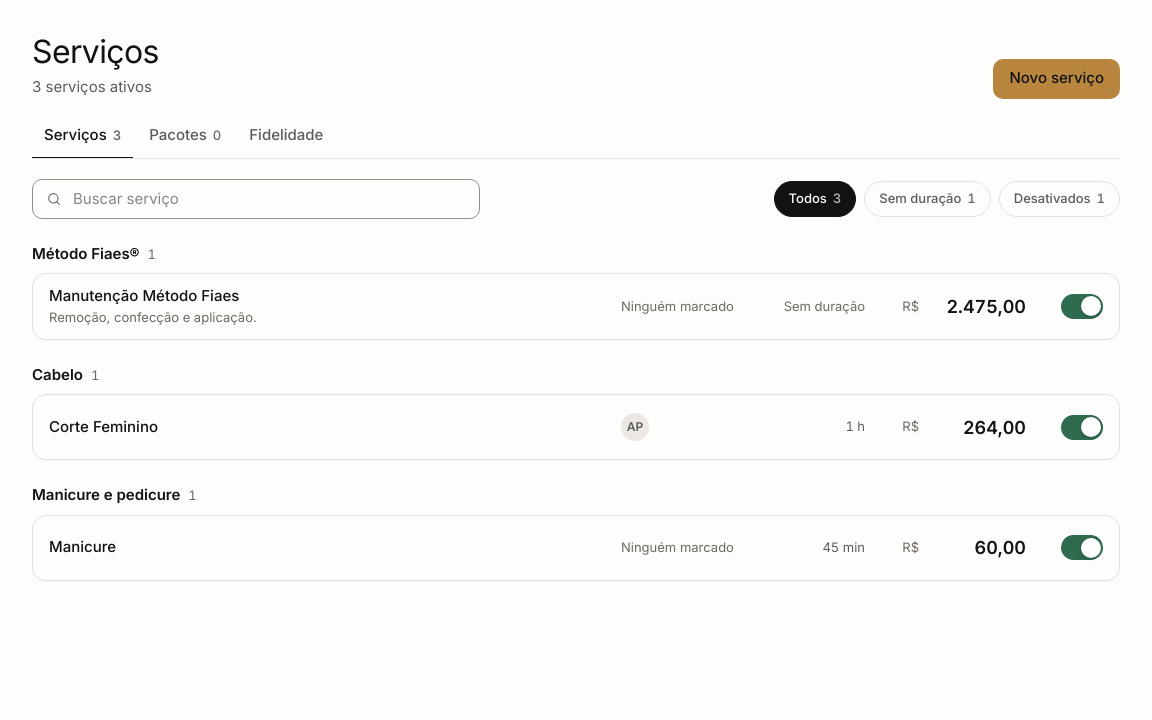
Test: busca sem acento e filtros (sem duração, desativados)
The image size is (1152, 720).
In the search field labelled "Buscar serviço": (256, 198) [32, 178, 480, 218], type "metodo"
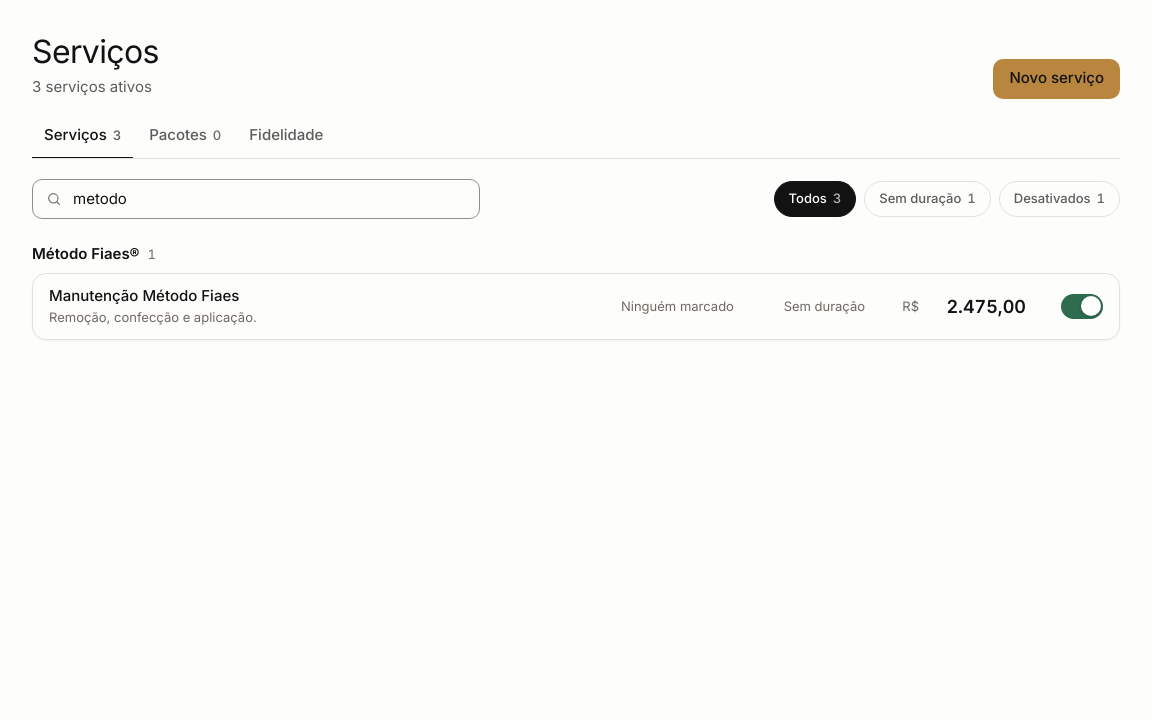
Expected: the headings read "Método Fiaes®1", in this order, [32, 244, 156, 262]
Clear the search field named "Buscar serviço": (256, 198) [32, 178, 480, 218]
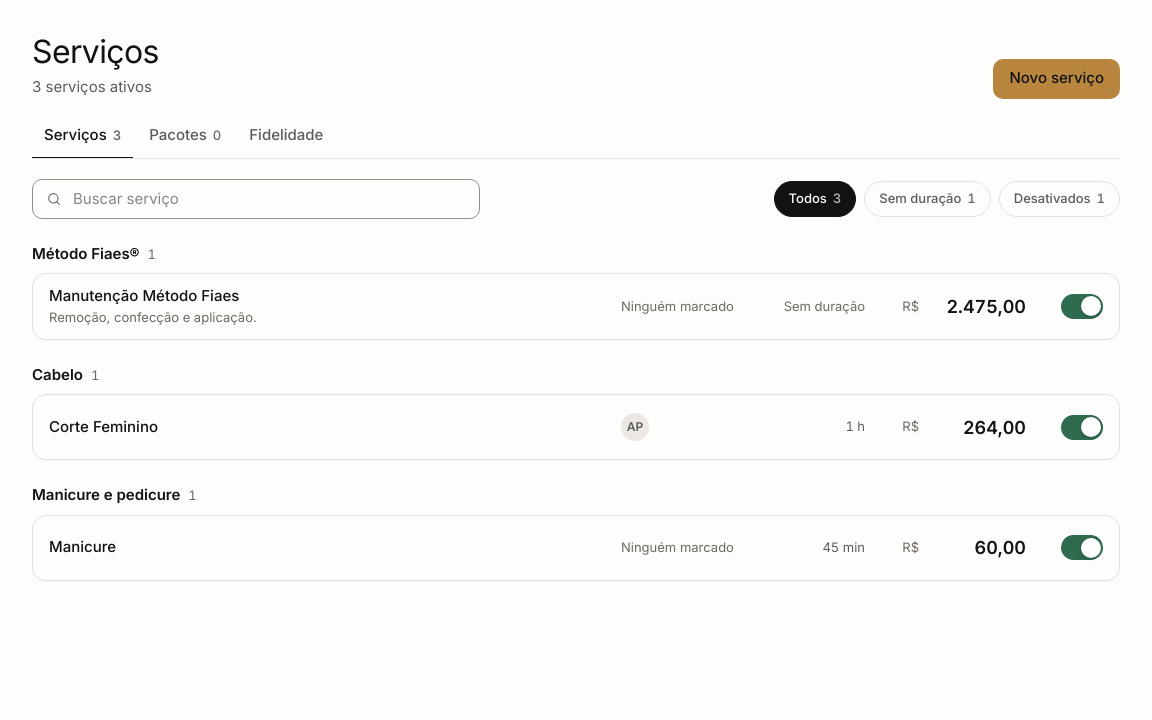
Click the button "Sem duração 1": (928, 198) [864, 180, 991, 216]
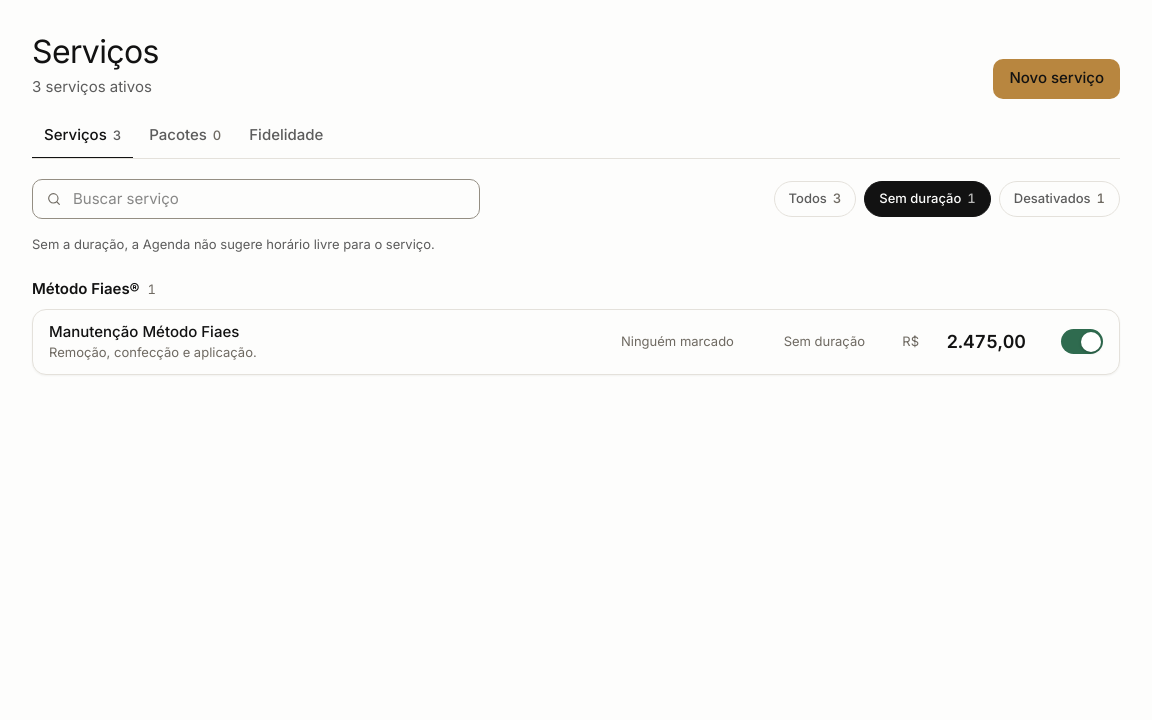
Expected: the text "Manutenção Método Fiaes" is shown, [49, 322, 239, 340]
Expected: the button "Corte Feminino" is gone
Click the button "Desativados 1": (1059, 198) [999, 180, 1120, 216]
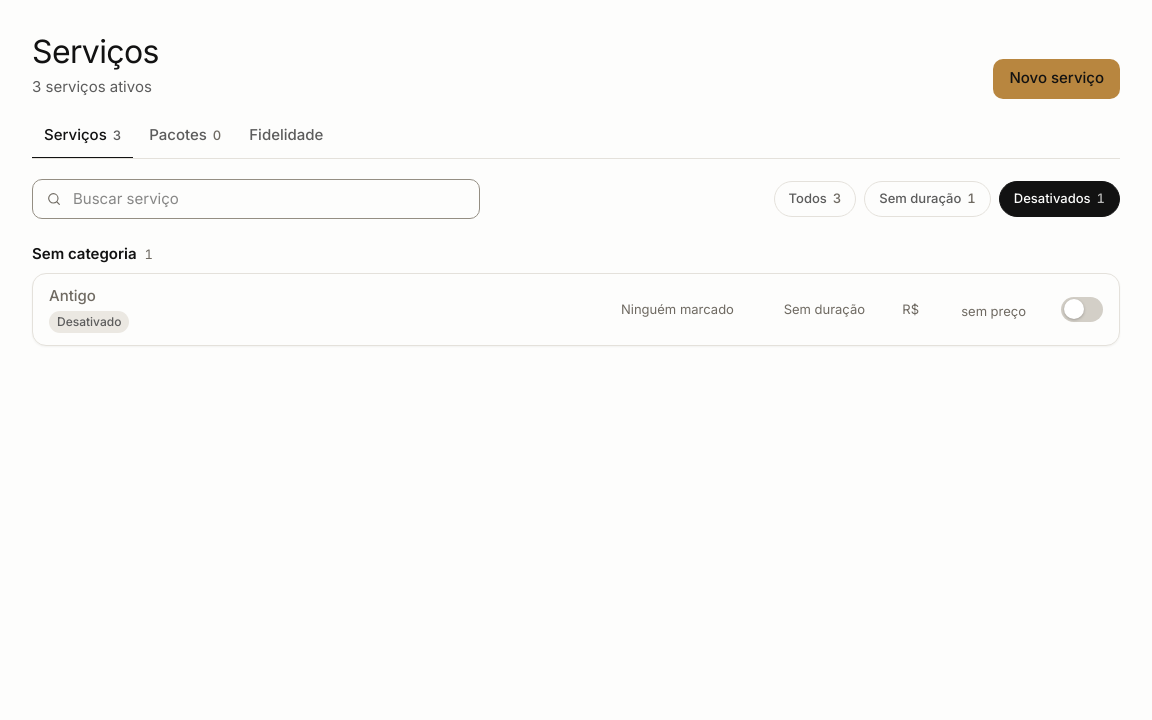
Expected: the text "Antigo" is shown, [49, 286, 96, 305]
